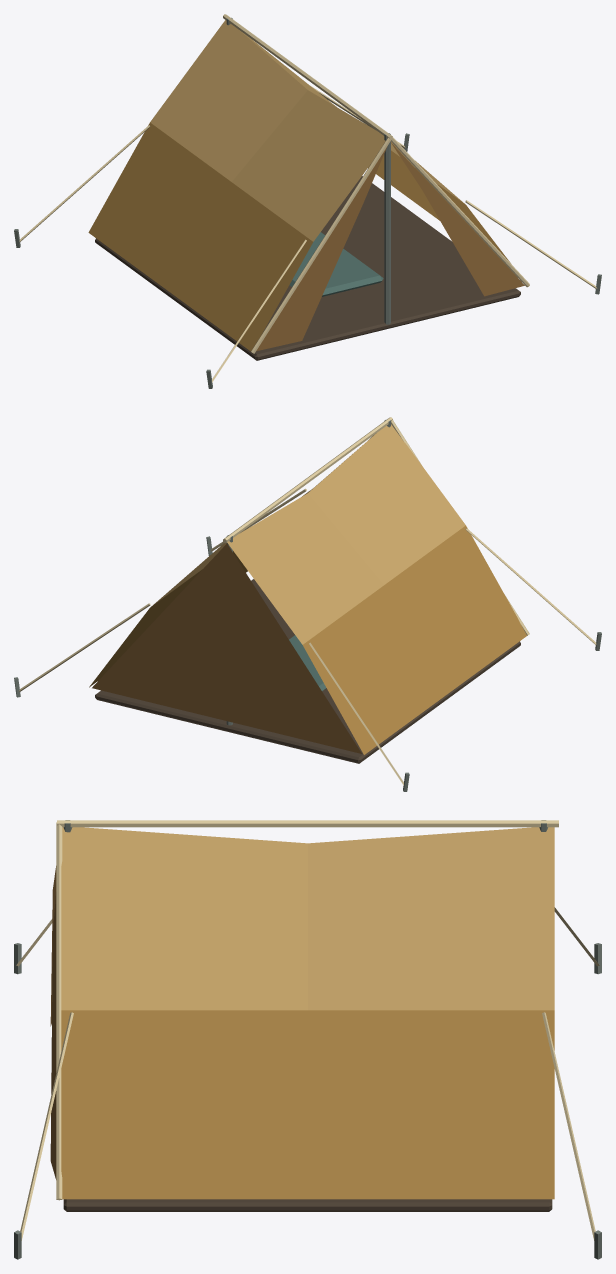
Rendered from zenscape-tent-ochre-v01.glb.
3 views of the same model, one above another, from view 1: azimuth 30°, elevation 25°; view 2: azimuth 150°, elevation 25°; view 3: azimuth 270°, elevation 25° (orthographic). The views are drawn at different scales.
Visible parts, largest first — view 1: Rainfly left, Groundsheet, Entrance folded flap, Entrance folded flap.001, Rainfly right, Sleeping mat, Front pole, Front bound edge, Ridge seam, Front bound edge.001; view 2: Rainfly left, Rear canvas, Groundsheet, Rainfly right, Ridge seam; view 3: Rainfly right, Groundsheet, Ridge seam, Front bound edge.001, Entrance folded flap.001, Guy rope.002, Guy rope.003.
Part boxes in pixels (left/top/right/bottom): Rainfly left: left=88, top=20, right=385, bottom=351; Groundsheet: left=95, top=176, right=520, bottom=360; Entrance folded flap: left=256, top=146, right=387, bottom=351; Entrance folded flap.001: left=390, top=142, right=524, bottom=296; Rainfly right: left=239, top=30, right=517, bottom=277; Sleeping mat: left=289, top=232, right=383, bottom=296; Front pole: left=384, top=133, right=390, bottom=324; Front bound edge: left=251, top=137, right=391, bottom=353; Ridge seam: left=223, top=14, right=392, bottom=138; Front bound edge.001: left=391, top=137, right=529, bottom=287; Rainfly left: left=227, top=424, right=526, bottom=754; Rear canvas: left=92, top=544, right=361, bottom=753; Groundsheet: left=95, top=579, right=520, bottom=763; Rainfly right: left=89, top=445, right=362, bottom=687; Ridge seam: left=223, top=417, right=392, bottom=543; Rainfly right: left=61, top=827, right=554, bottom=1199; Groundsheet: left=63, top=1199, right=552, bottom=1211; Ridge seam: left=57, top=820, right=558, bottom=827; Front bound edge.001: left=56, top=823, right=62, bottom=1200; Entrance folded flap.001: left=50, top=892, right=56, bottom=1179; Guy rope.002: left=20, top=1012, right=73, bottom=1240; Guy rope.003: left=542, top=1012, right=595, bottom=1240.
Size of the model in its own units: 3.22 by 1.52 by 2.74.
